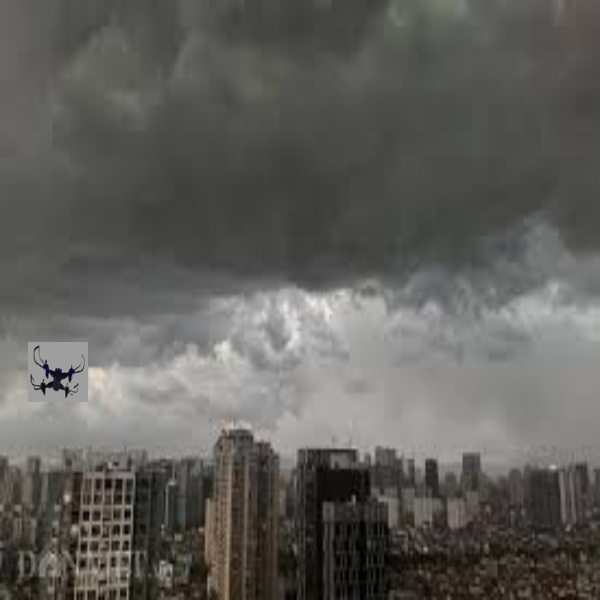drone: (23, 340, 92, 404)
